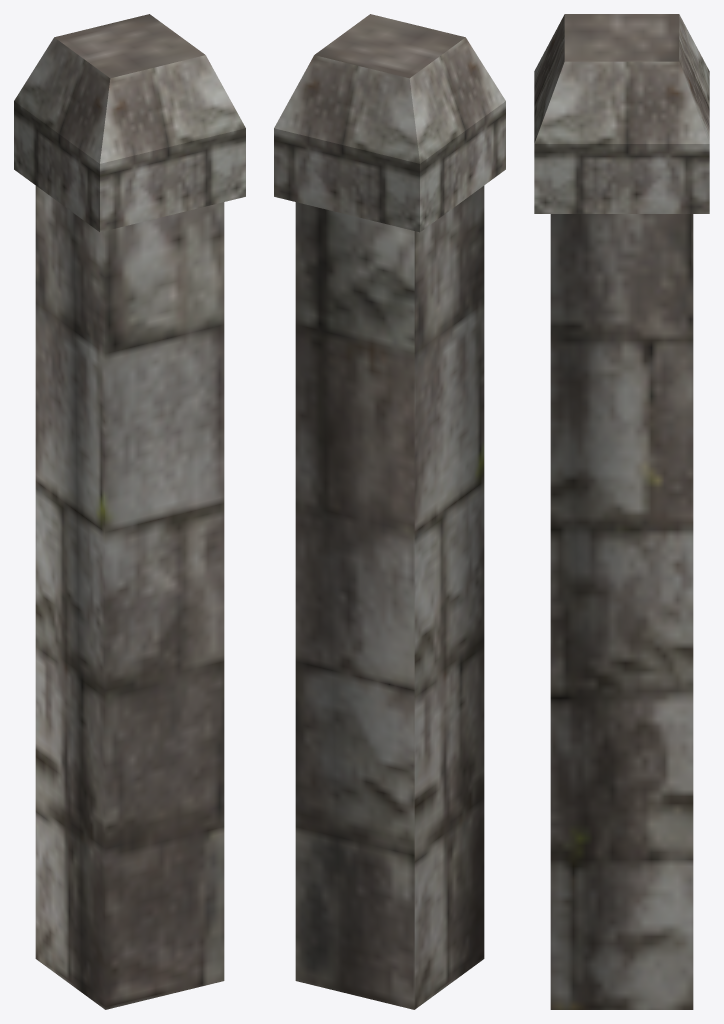
File: pillar_top_sm.glb
3 views of the same model, side by side, from view 1: azimuth 30°, elevation 25°; view 2: azimuth 150°, elevation 25°; view 3: azimuth 270°, elevation 25° (orthographic). The views are drawn at different scales.
Visible parts, largest first — view 1: pillar_top_sm; view 2: pillar_top_sm; view 3: pillar_top_sm.
Part boxes in pixels (<box>): pillar_top_sm: <box>14,14,245,1009</box>; pillar_top_sm: <box>274,14,505,1009</box>; pillar_top_sm: <box>534,14,709,1009</box>.
Bounding box in the file's own units: 0.7564 × 4.57 × 0.7703.
Materials: 1 (1 with a texture image).
